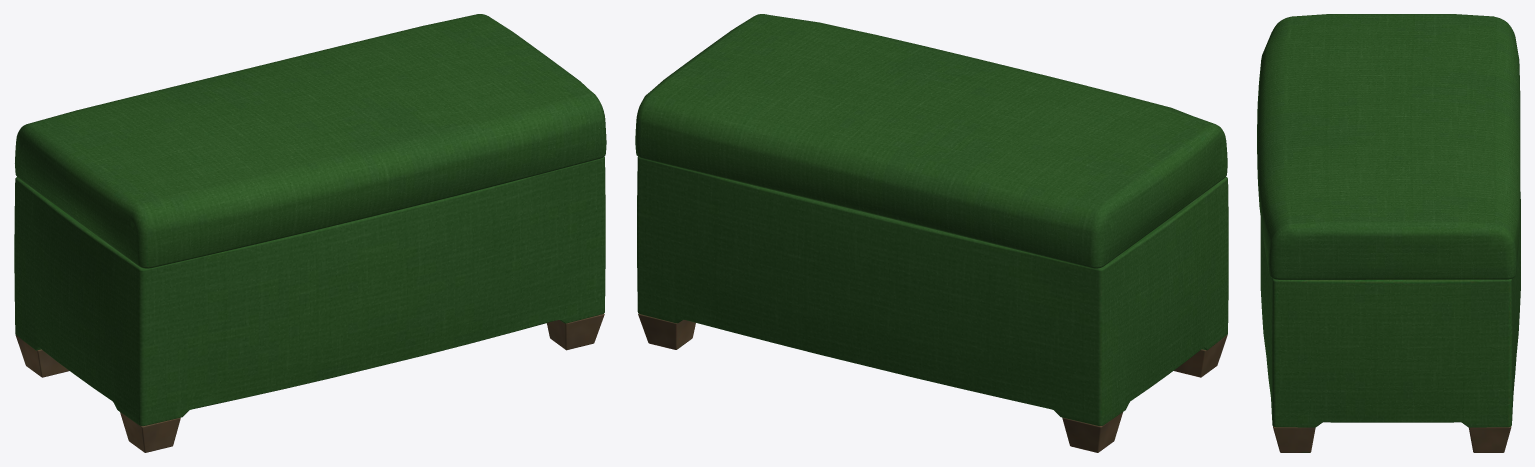
Rendered from sofa_B073G947XM.glb.
3 renders of one model, left to right at view 1: azimuth 30°, elevation 25°; view 2: azimuth 150°, elevation 25°; view 3: azimuth 270°, elevation 25°, orthographic. The views are drawn at different scales.
Visible parts, largest first — view 1: RootNode; view 2: RootNode; view 3: RootNode.
Part boxes in pixels (x1,y1,x2,y2): RootNode: (14,14,606,452); RootNode: (635,14,1228,452); RootNode: (1257,14,1520,452).
Size of the model in its own units: 0.9891 by 0.5008 by 0.5047.
1 material, 1 textured.
